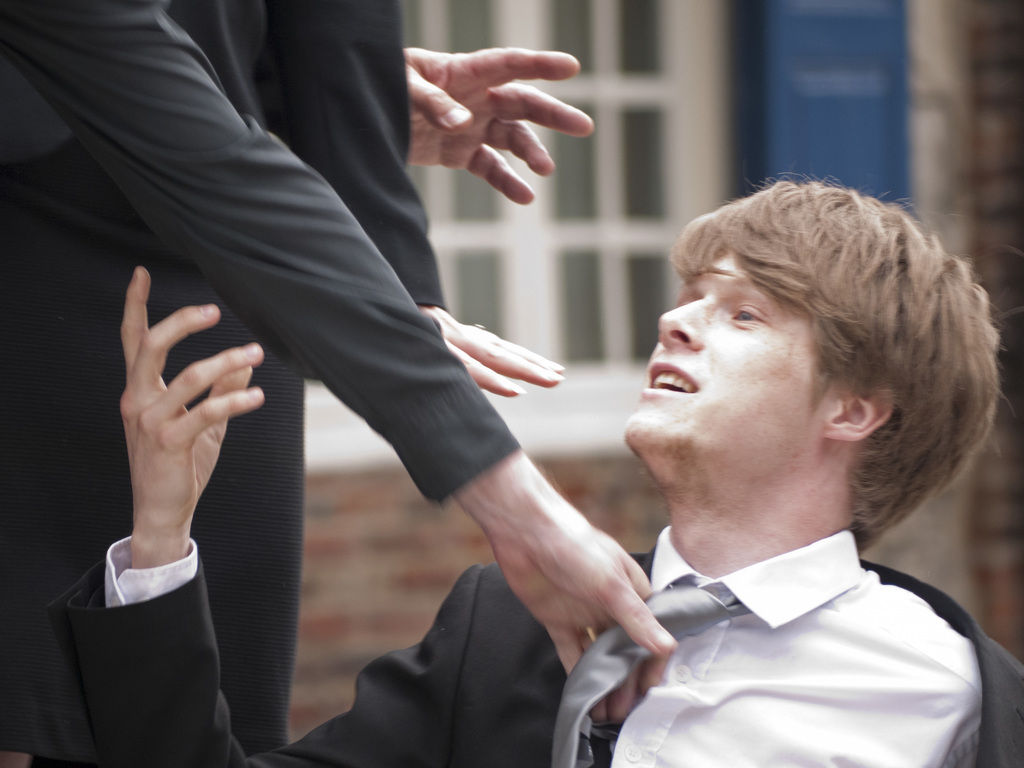Human_hand: (490, 488, 683, 724), (119, 266, 268, 531), (399, 48, 598, 207), (419, 306, 569, 399)
